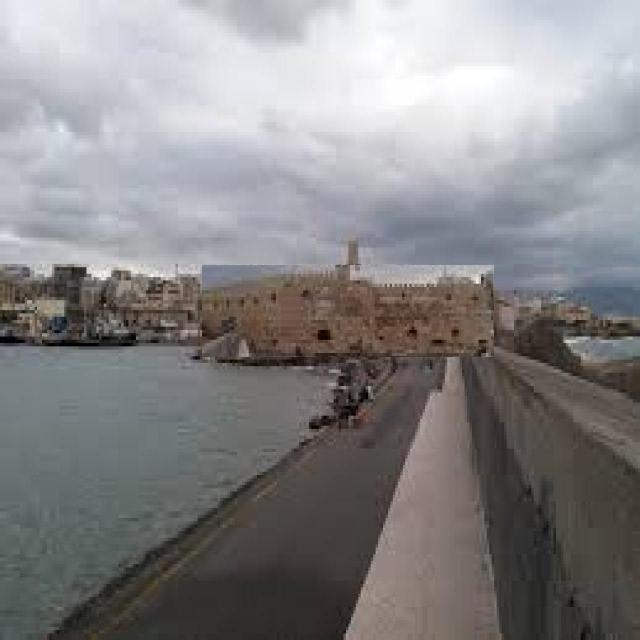Kules: (204, 266, 496, 358)
